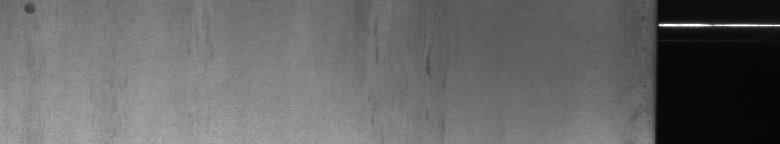fi: (20, 4, 40, 20)
